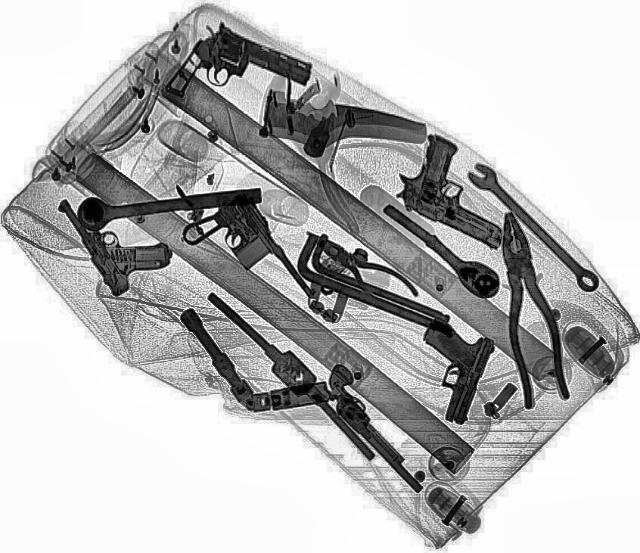Gun: (172, 192, 321, 326), (380, 131, 546, 251), (305, 360, 445, 496), (160, 19, 318, 137), (54, 176, 182, 296), (395, 317, 499, 425)
Pliers: (484, 206, 574, 410), (290, 221, 422, 315)
Wrench: (459, 158, 608, 298)
